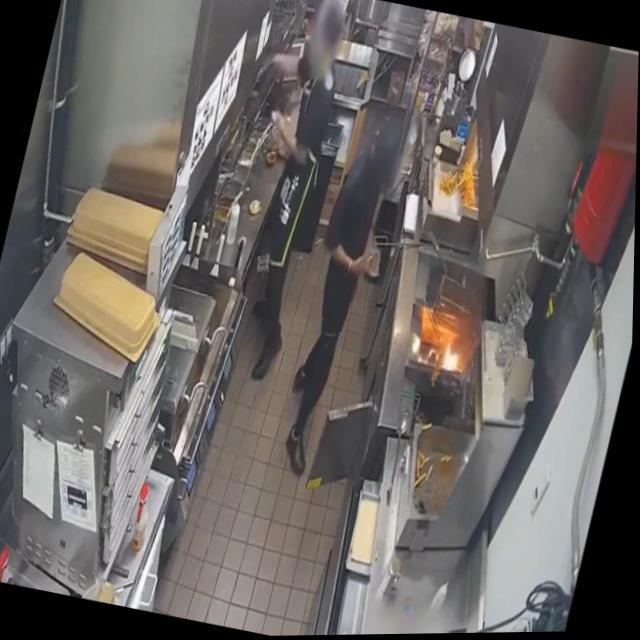fire: (436, 338, 472, 378)
